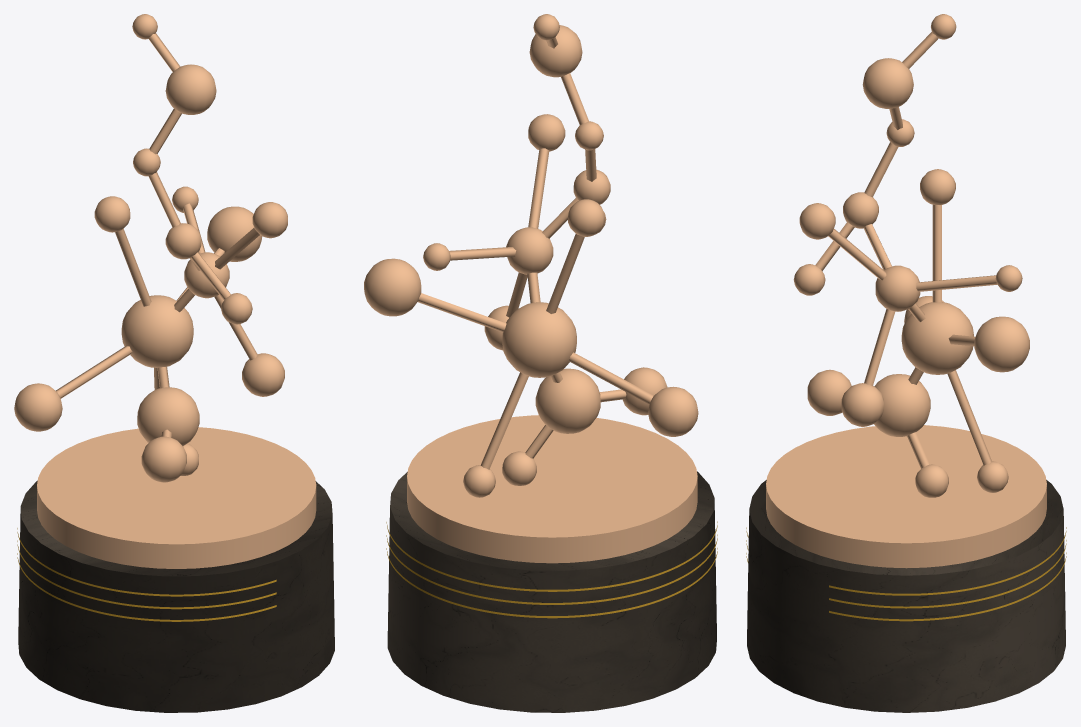
Rendered from chemistry.glb.
3 renders of one model, left to right at view 1: azimuth 30°, elevation 25°; view 2: azimuth 150°, elevation 25°; view 3: azimuth 270°, elevation 25°, orthographic. The views are drawn at different scales.
Parts seen in each view (by area): view 1: marble_column, gold_cap, chemistry_award, hub_low, arm_1a, arm_1c, leg_a, arm_2a, arm_1d, arm_2c, bond_10, bond_11 (+7 smaller); view 2: marble_column, gold_cap, chemistry_award, hub_low, arm_1a, arm_1c, leg_a, arm_1d, arm_2c, bond_09, bond_10, leg_b (+11 smaller); view 3: marble_column, gold_cap, chemistry_award, hub_low, arm_1a, leg_a, arm_2a, arm_2c, arm_1d, bond_09, leg_b, bond_11 (+11 smaller).
Part boxes in pixels (x1,y1,x2,y2): marble_column: [18, 480, 334, 712]; gold_cap: [37, 427, 316, 568]; chemistry_award: [121, 64, 229, 367]; hub_low: [137, 387, 199, 445]; arm_1a: [207, 206, 262, 261]; arm_1c: [14, 383, 62, 431]; leg_a: [141, 436, 186, 482]; arm_2a: [242, 353, 284, 396]; arm_1d: [94, 196, 130, 232]; arm_2c: [252, 202, 287, 238]; bond_10: [56, 345, 132, 398]; bond_11: [115, 229, 151, 306]; marble_column: [387, 471, 716, 712]; gold_cap: [407, 415, 697, 563]; chemistry_award: [502, 25, 610, 377]; hub_low: [535, 368, 600, 433]; arm_1a: [364, 258, 421, 316]; arm_1c: [648, 386, 698, 436]; leg_a: [622, 367, 667, 415]; arm_1d: [568, 199, 604, 236]; arm_2c: [528, 114, 565, 151]; bond_09: [480, 372, 528, 469]; bond_10: [568, 352, 653, 404]; leg_b: [502, 451, 536, 485]; marble_column: [747, 480, 1065, 712]; gold_cap: [766, 425, 1046, 568]; chemistry_award: [843, 58, 973, 374]; hub_low: [874, 374, 930, 436]; arm_1a: [974, 316, 1029, 372]; leg_a: [807, 369, 851, 415]; arm_2a: [841, 383, 883, 426]; arm_2c: [799, 203, 835, 239]; arm_1d: [920, 169, 955, 204]; bond_09: [947, 370, 992, 465]; leg_b: [915, 464, 948, 497]; bond_11: [932, 204, 941, 302].
Size of what is drawn, in the model's own units: 0.4717 by 0.9772 by 0.4543.
3 materials, 1 textured.
